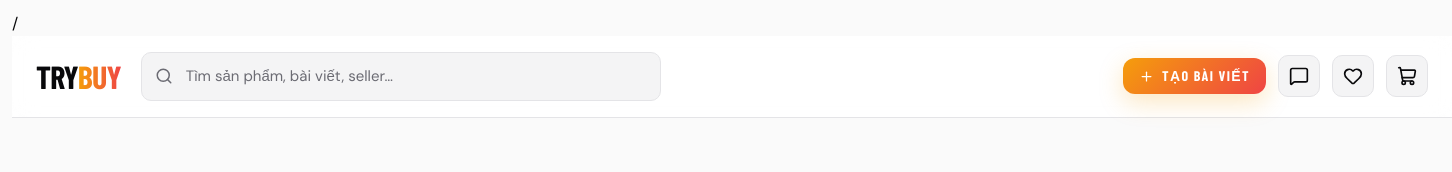
Test: Header search › submits the query to /marketplace via router navigation
Type "iphone" into the dropdown with placeholder "Tìm sản phẩm, bài viết, seller…" at (401, 76), box top-left (141, 52), bottom-right (661, 100)
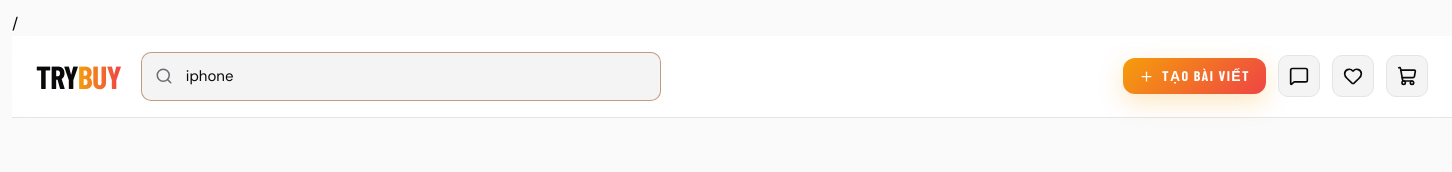
Click the button named "Tìm kiếm" at (164, 76), box top-left (155, 67), bottom-right (173, 85)
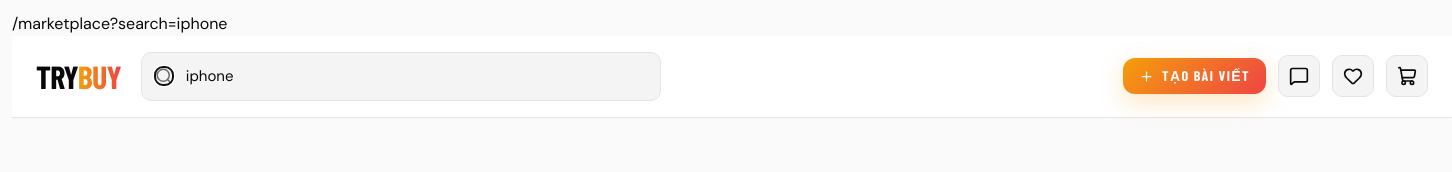
Check: the text with test id "location" reads "/marketplace?search=iphone", box top-left (12, 13), bottom-right (228, 34)
